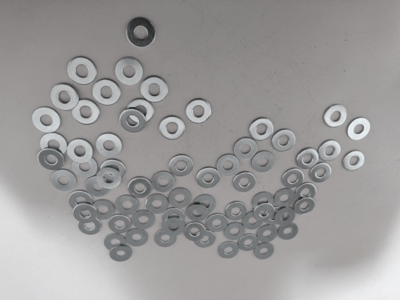circle: (126, 17, 156, 48), (69, 57, 97, 85), (51, 83, 79, 111), (116, 58, 144, 85), (141, 76, 169, 103), (93, 80, 122, 106), (33, 107, 61, 133), (72, 100, 100, 125), (186, 98, 212, 124), (120, 109, 147, 133), (66, 139, 93, 163), (128, 99, 154, 123), (41, 133, 67, 157), (38, 147, 65, 170), (159, 117, 186, 140), (100, 159, 127, 182), (97, 133, 122, 157), (324, 104, 348, 128), (216, 154, 241, 177), (74, 155, 98, 178), (250, 118, 274, 141), (272, 129, 296, 152), (252, 150, 276, 173), (196, 167, 221, 189), (170, 155, 195, 177), (152, 171, 177, 193), (128, 177, 153, 199), (51, 170, 77, 191), (234, 138, 258, 160), (233, 171, 257, 193), (97, 168, 122, 189), (69, 191, 95, 211), (297, 148, 320, 170), (348, 118, 371, 140), (253, 191, 276, 213), (87, 176, 111, 197), (116, 195, 140, 216), (109, 214, 132, 235), (318, 141, 341, 162), (133, 209, 156, 230), (78, 216, 102, 236), (154, 228, 178, 248), (168, 188, 192, 208), (193, 195, 217, 215), (264, 205, 286, 226), (274, 188, 296, 209), (92, 200, 115, 220), (309, 163, 332, 183), (342, 151, 365, 171), (206, 213, 229, 233), (74, 204, 98, 223), (162, 208, 186, 227), (243, 210, 264, 231), (282, 169, 304, 189), (226, 201, 248, 221), (104, 233, 127, 252), (126, 228, 149, 247), (275, 207, 296, 227), (254, 202, 275, 222), (224, 222, 246, 241), (163, 218, 186, 236), (186, 204, 209, 222), (258, 224, 279, 243), (296, 183, 317, 202), (184, 223, 206, 241), (194, 230, 216, 248), (278, 222, 299, 240), (110, 245, 132, 262), (219, 241, 239, 259), (239, 234, 259, 252), (255, 242, 275, 260), (296, 197, 316, 215)
